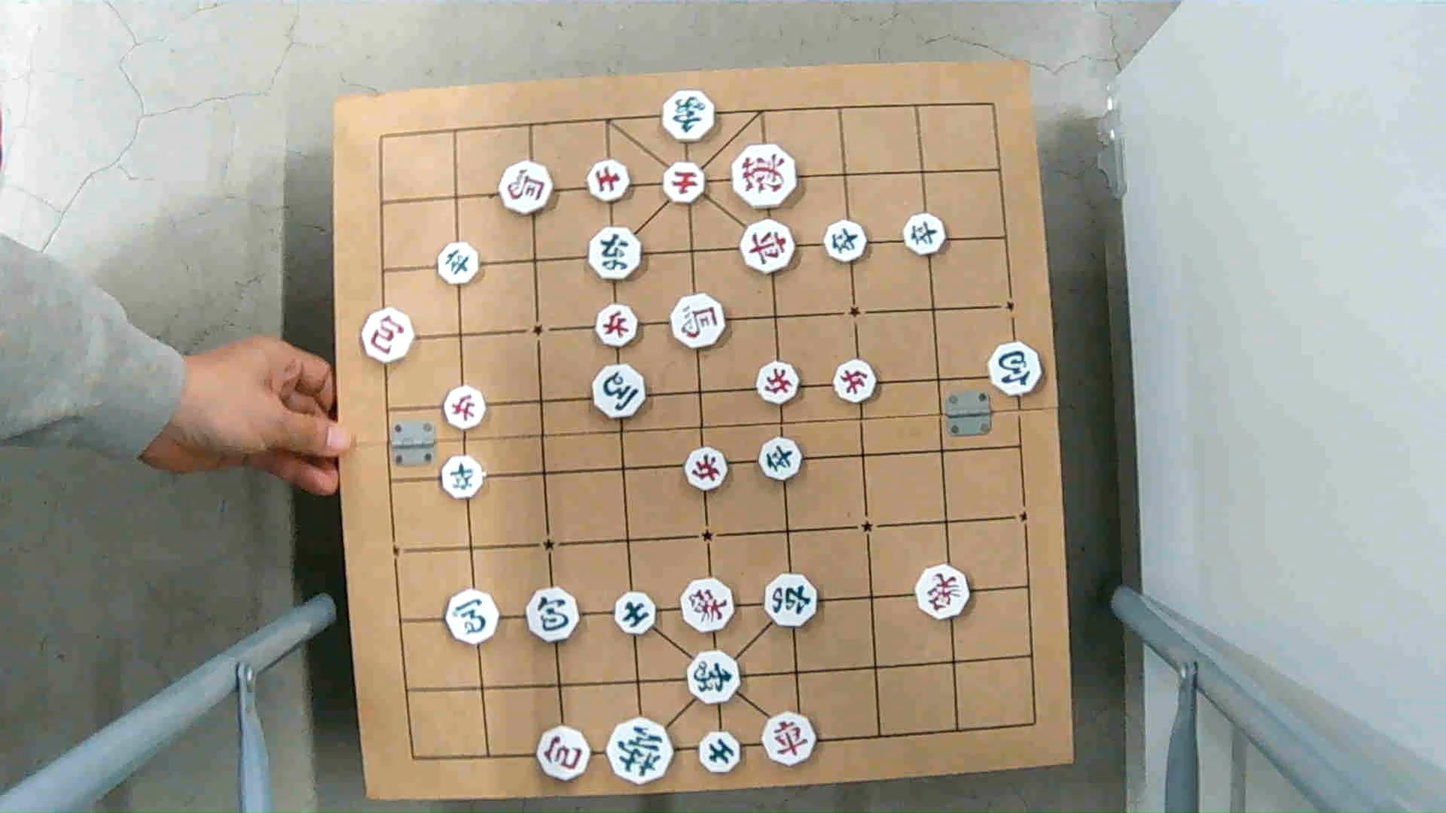cha_green: (587, 227, 642, 279), (765, 577, 817, 626)
cha_red: (740, 221, 798, 269), (761, 713, 816, 763)
jol_green: (757, 437, 804, 480), (439, 458, 485, 498), (438, 245, 482, 285), (905, 215, 950, 253), (823, 223, 869, 260)
jol_red: (682, 447, 729, 488), (829, 362, 877, 401), (596, 306, 644, 345), (441, 388, 488, 427), (755, 364, 801, 403)
ma_green: (444, 593, 502, 644), (590, 367, 647, 417)
ma_red: (671, 297, 728, 346), (497, 163, 555, 211)
po_green: (524, 590, 581, 641), (988, 343, 1044, 394)
po_red: (360, 309, 416, 361), (535, 729, 593, 779)
sa_green: (614, 595, 660, 635), (700, 732, 740, 774)
sa_red: (660, 164, 708, 202), (586, 159, 630, 198)
sang_green: (685, 653, 741, 702), (660, 93, 718, 140)
sang_red: (680, 578, 734, 631), (914, 568, 972, 617)
wang_green: (607, 721, 673, 782)
wang_red: (734, 149, 793, 202)
